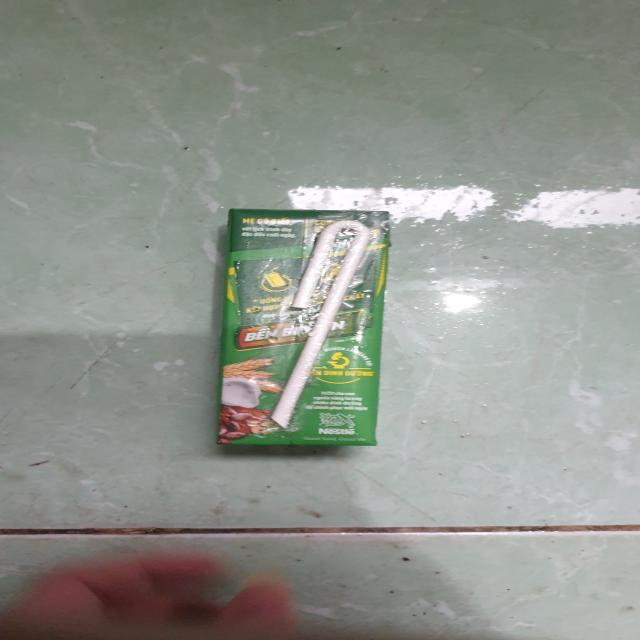Milo: (213, 212, 396, 452)
